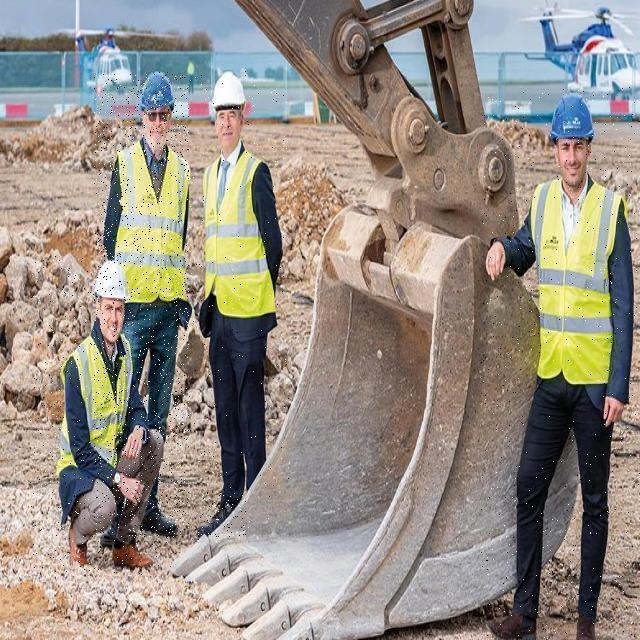goggles: (142, 108, 170, 122)
helmet: (552, 90, 598, 142), (138, 72, 175, 110), (94, 259, 128, 300), (211, 71, 246, 110)
safety_vest: (529, 177, 627, 385), (202, 151, 276, 317), (115, 142, 190, 304), (54, 333, 133, 478)
